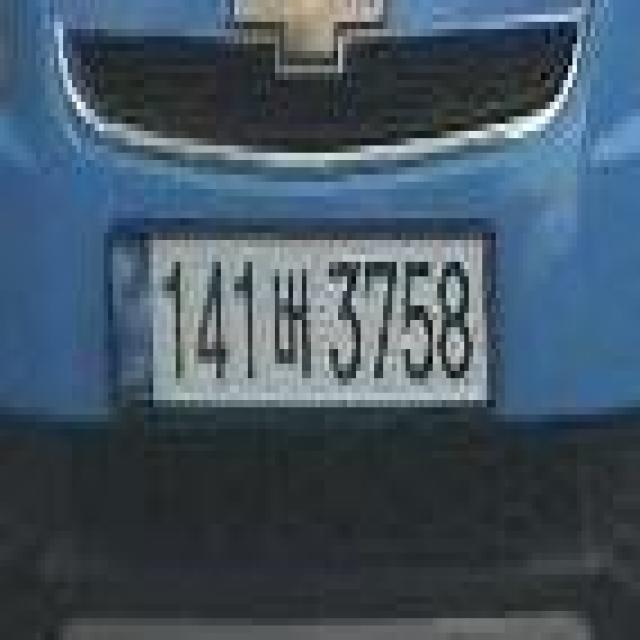illegal_plate: (104, 210, 498, 430)
